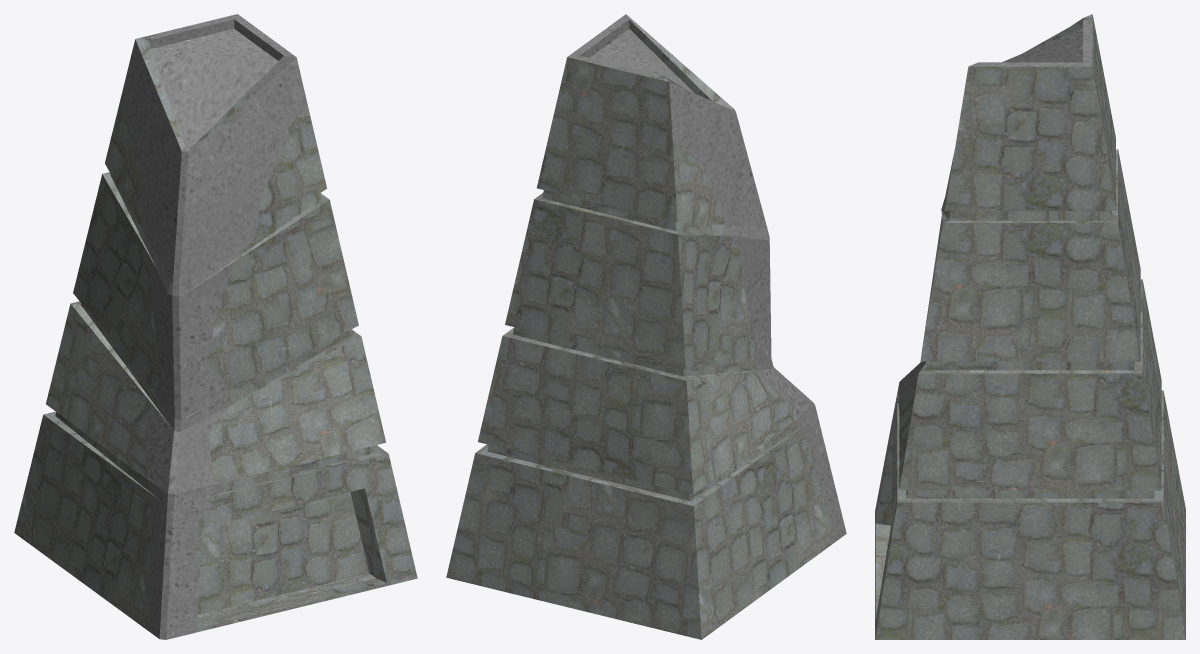
Rendered from building 2.glb.
3 renders of one model, left to right at view 1: azimuth 30°, elevation 25°; view 2: azimuth 150°, elevation 25°; view 3: azimuth 270°, elevation 25°, orthographic. The views are drawn at different scales.
Parts seen in each view (by area): view 1: Cube.001; view 2: Cube.001; view 3: Cube.001.
Part boxes in pixels (x1,y1,x2,y2): Cube.001: (14, 14, 417, 639); Cube.001: (446, 14, 846, 639); Cube.001: (875, 14, 1185, 639).
Bounding box in the file's own units: 10.78 × 20.52 × 10.78.
1 material, 1 textured.
